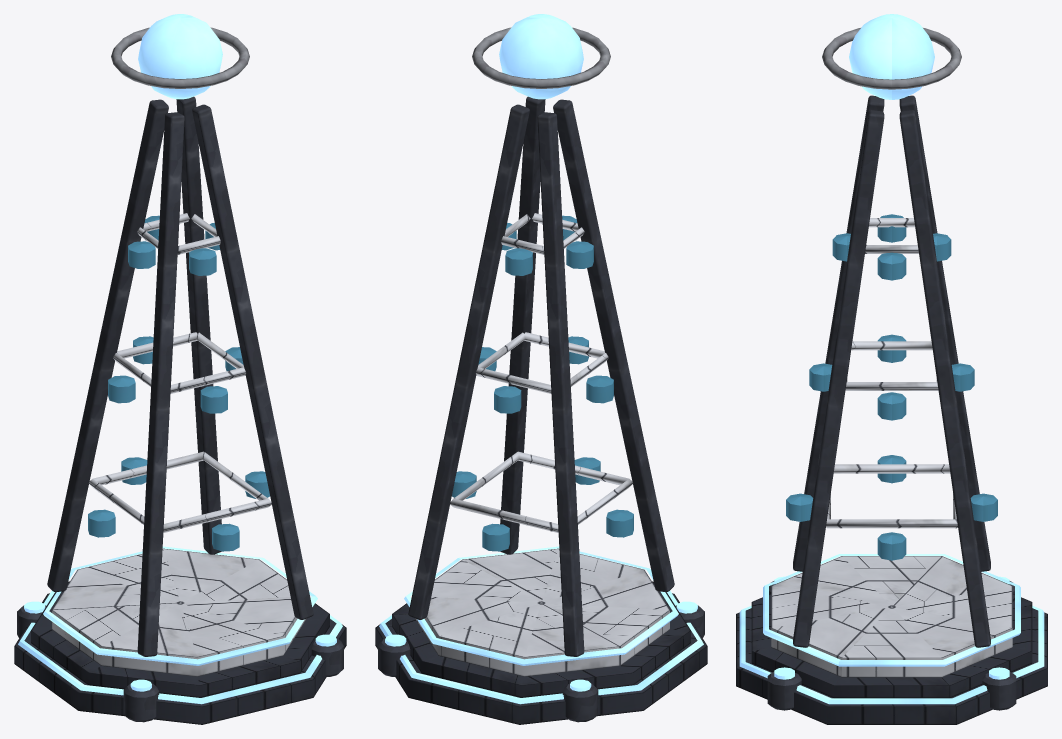
Rendered from sf_thunderspire.glb.
The picture shows the model from 3 angles, left to right: view 1: azimuth 30°, elevation 25°; view 2: azimuth 150°, elevation 25°; view 3: azimuth 270°, elevation 25°; orthographic projection.
Visible parts, largest first — view 1: Base, Turret; view 2: Base, Turret; view 3: Base, Turret.
Part boxes in pixels (x1=…): Base: x1=14, y1=96, x2=346, y2=724; Turret: x1=111, y1=14, x2=249, y2=99; Base: x1=375, y1=96, x2=707, y2=724; Turret: x1=472, y1=14, x2=610, y2=99; Base: x1=736, y1=95, x2=1047, y2=724; Turret: x1=822, y1=14, x2=961, y2=99.
Size of the model in its own units: 0.8684 by 1.97 by 0.8684.
Materials: 6 (6 with a texture image).
